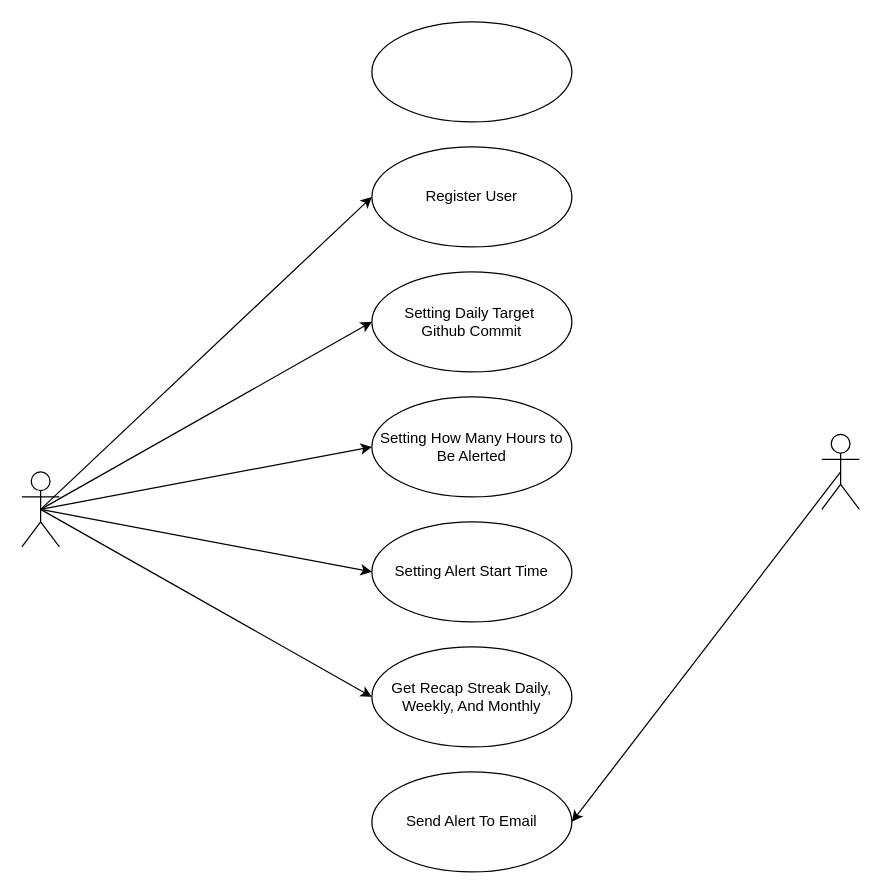
This 888x894 diagram has some shape labels left out. Each missing label, with the centre of its shape:
Login User: pixel 471 71
System: pixel 840 471
User: pixel 40 509
